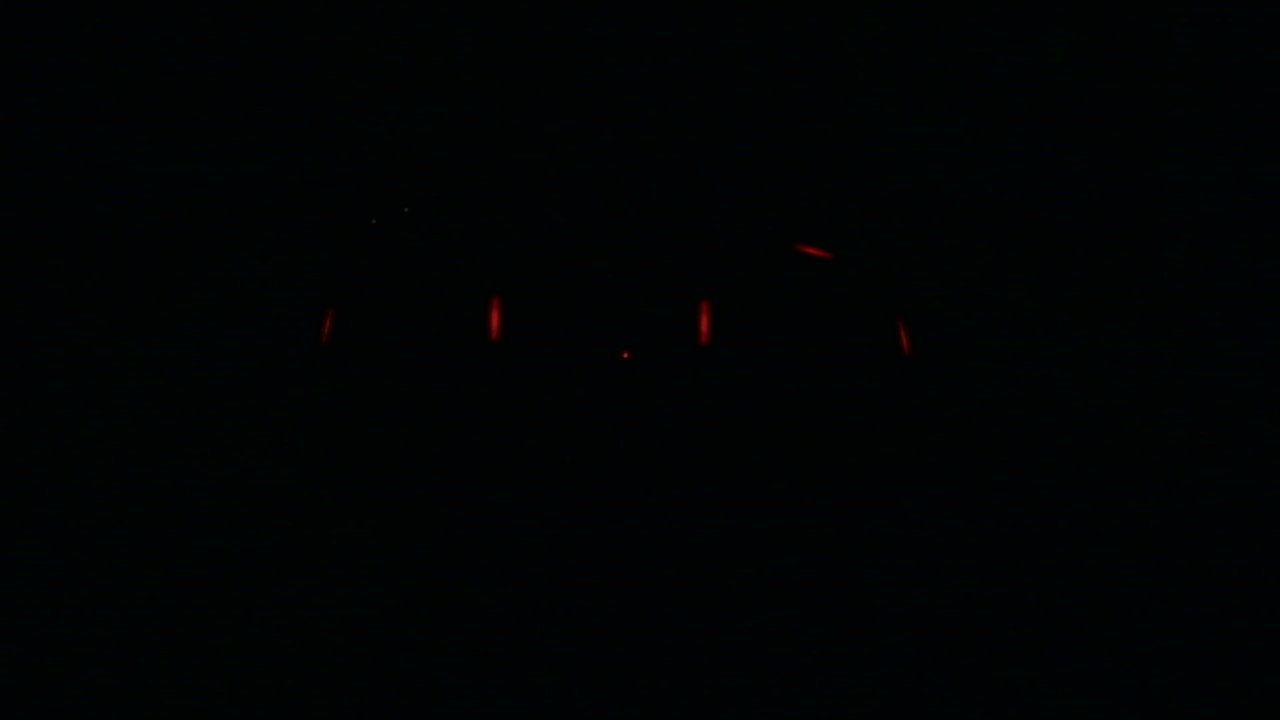lamp: (694, 297, 711, 345), (489, 296, 503, 342)
notpair2: (694, 298, 913, 358), (322, 299, 504, 346)
pair2: (490, 295, 711, 347)
